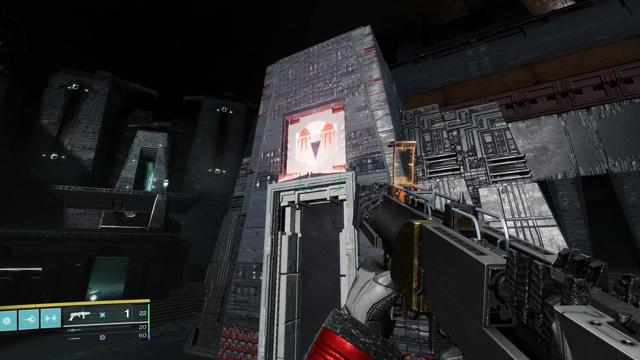give: (295, 122, 338, 166)
